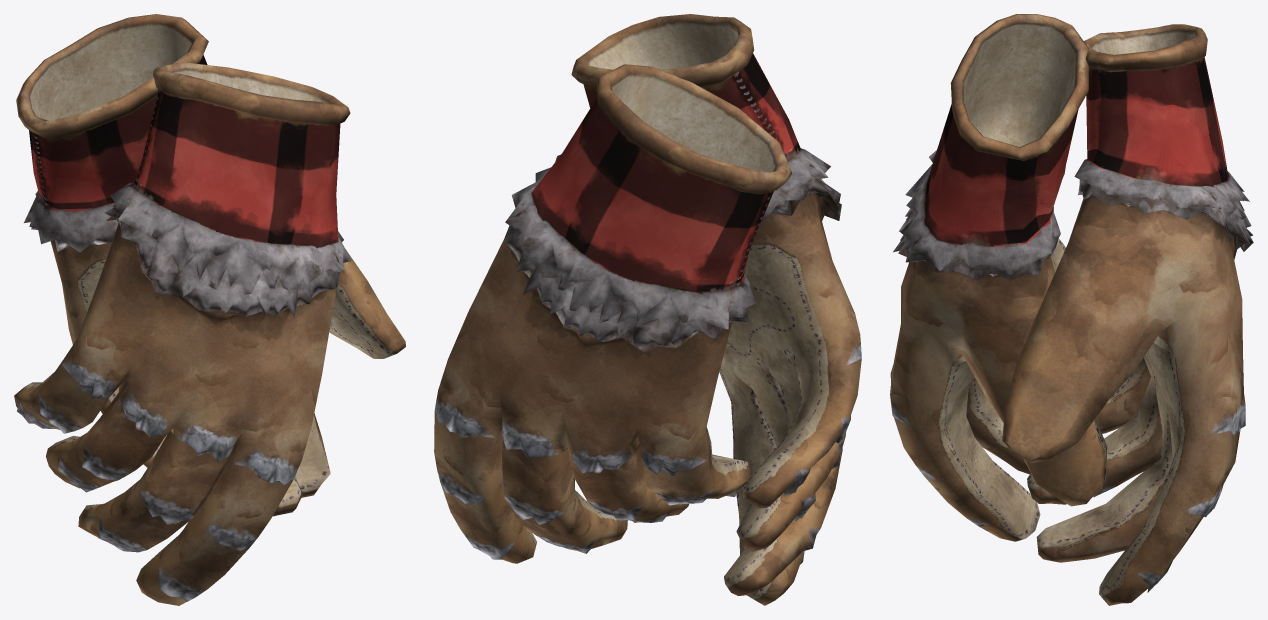
Rendered from deer_gloves.fbx.
3 views of the same model, side by side, from view 1: azimuth 30°, elevation 25°; view 2: azimuth 150°, elevation 25°; view 3: azimuth 270°, elevation 25° (orthographic). The views are drawn at different scales.
Parts seen in each view (by area): view 1: deer_gloves; view 2: deer_gloves; view 3: deer_gloves.
Boxes of the visible parts, left/top/right/bottom form: deer_gloves: left=14, top=14, right=405, bottom=605; deer_gloves: left=434, top=14, right=861, bottom=605; deer_gloves: left=890, top=14, right=1253, bottom=605.
Bounding box in the file's own units: 16 × 23.43 × 14.51.
Materials: 1 (1 with a texture image).
